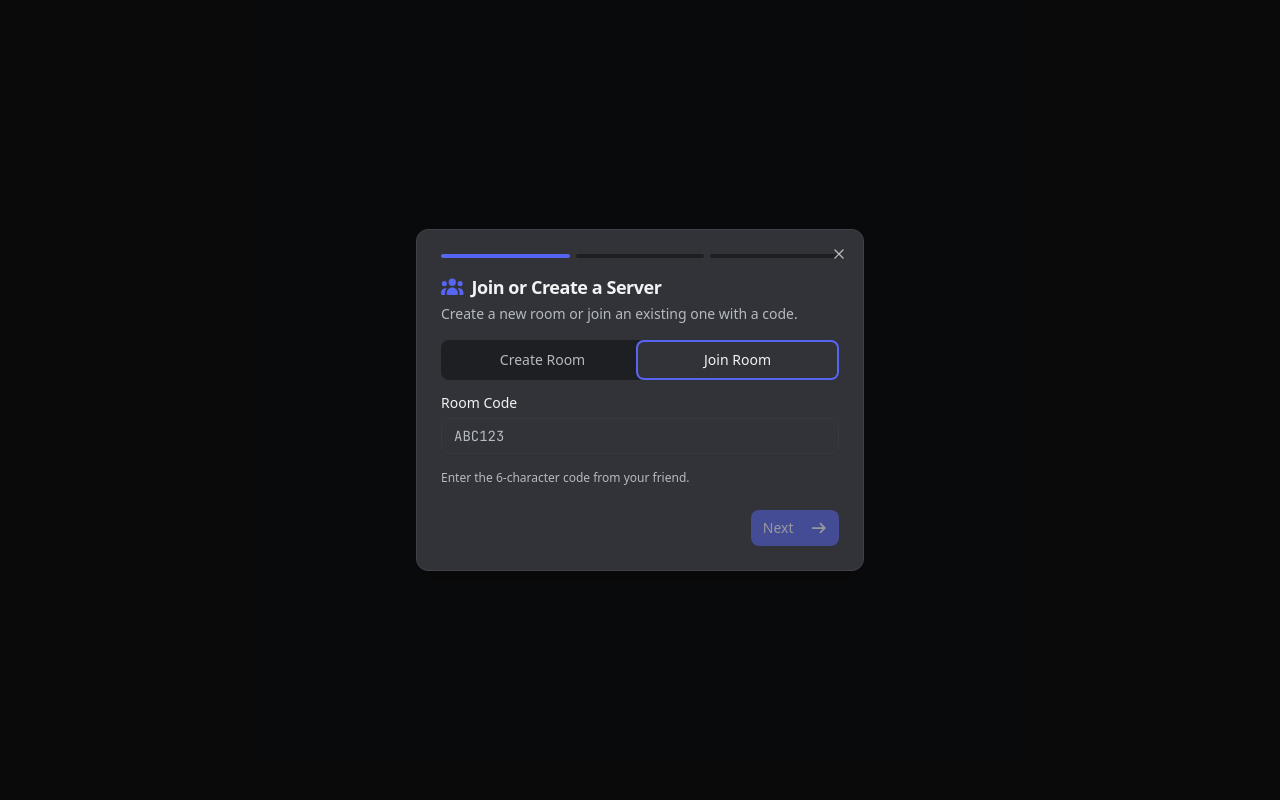
Test: OnboardingModal › can navigate through room → username steps
The image size is (1280, 800).
On room step - fill in join code
In the field with placeholder "ABC123": (640,436) [441,418,839,454], type "XYZ789"
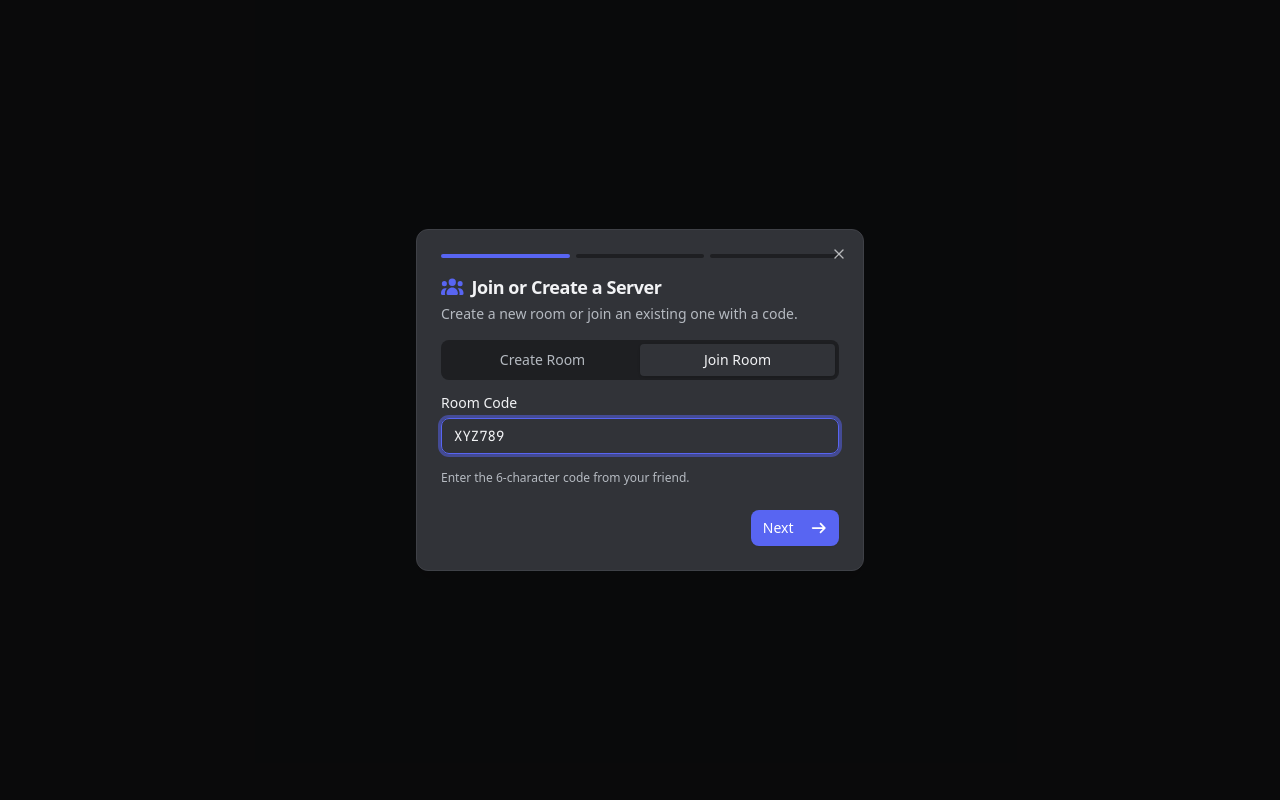
Click Next
Click the button "Next": (795,528) [751,510,839,546]
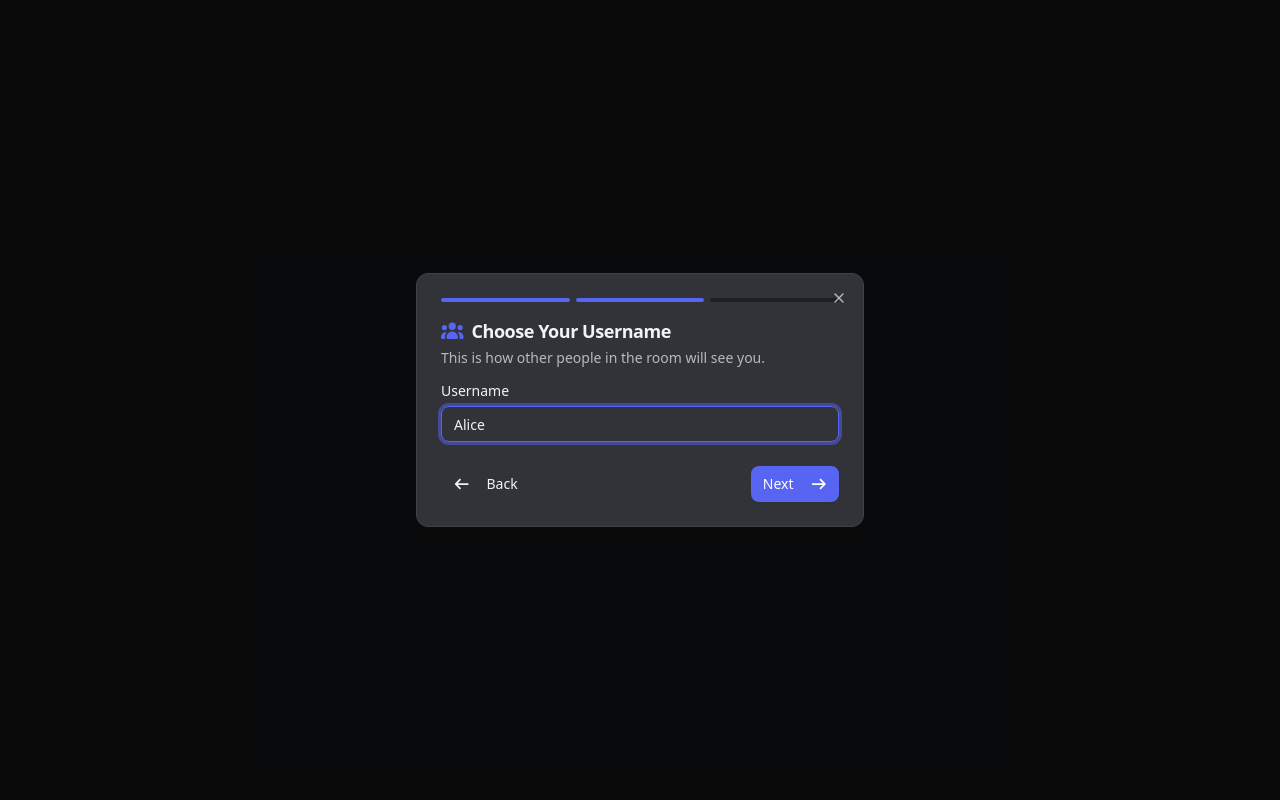
Now the heading "Choose Your Username" is shown, box [441,319,671,343]
